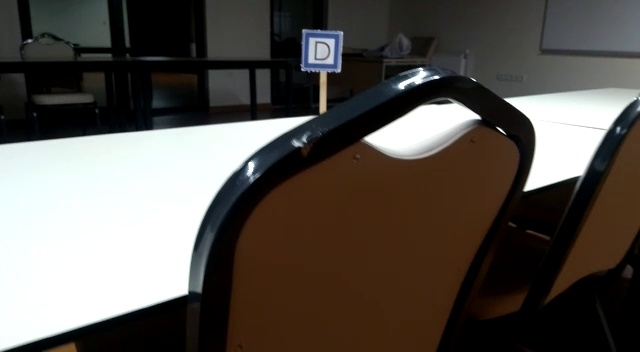durak: (300, 29, 344, 70)
